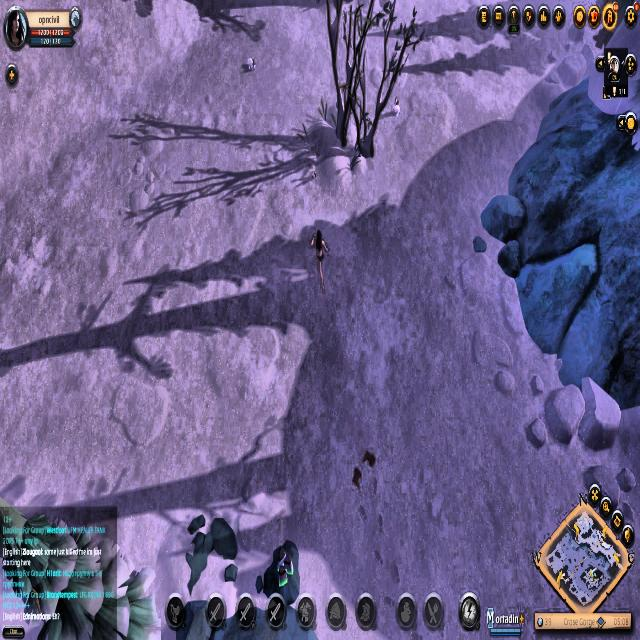tin_ore: (262, 532, 308, 608)
